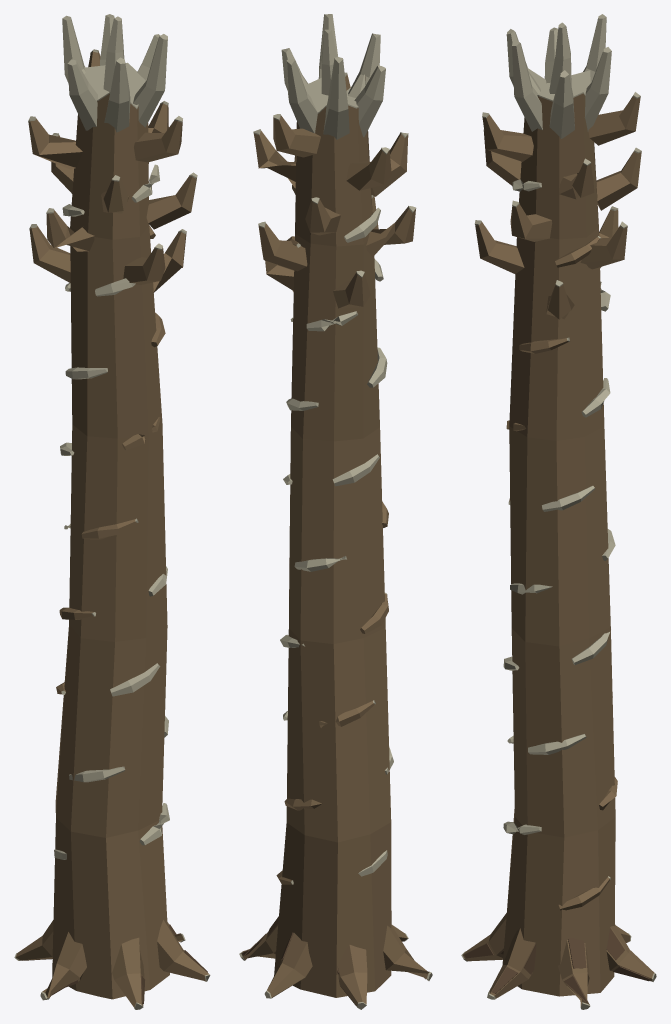
The model's file is prop-tree-oil-palm-dead.glb.
3 renders of one model, left to right at view 1: azimuth 30°, elevation 25°; view 2: azimuth 150°, elevation 25°; view 3: azimuth 270°, elevation 25°, orthographic.
Parts seen in each view (by area): view 1: leafless_tree; view 2: leafless_tree; view 3: leafless_tree.
Boxes of the visible parts, left/top/right/bottom form: leafless_tree: left=14, top=14, right=210, bottom=1009; leafless_tree: left=239, top=14, right=432, bottom=1009; leafless_tree: left=461, top=14, right=656, bottom=1009.
Bounding box in the file's own units: 0.399 × 2.17 × 0.4041.
